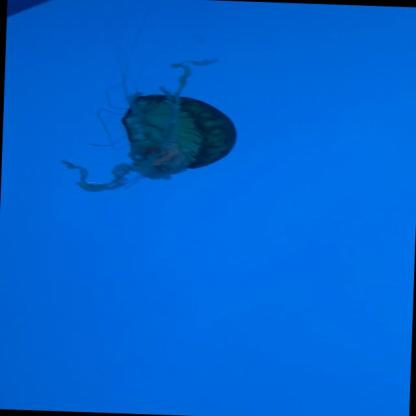jellyfish: (120, 91, 239, 182)
